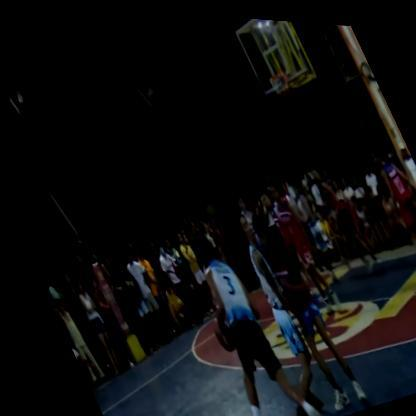basketball: (199, 306, 234, 355)
rim: (257, 55, 300, 110)
